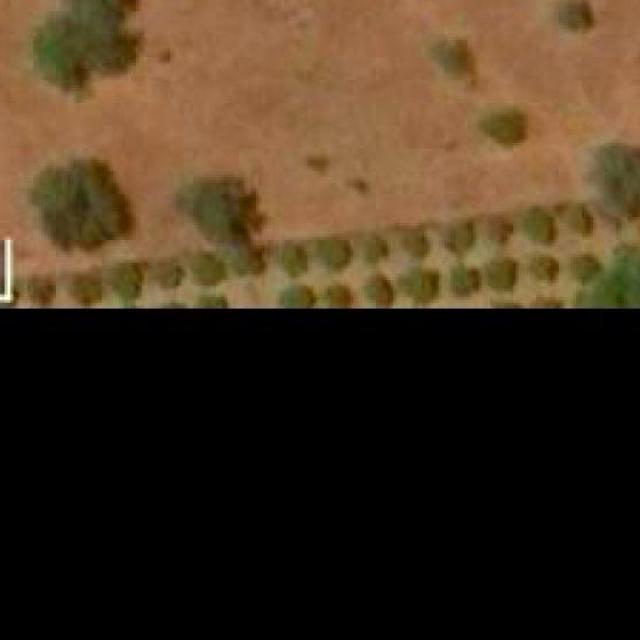Tree: (34, 0, 134, 71), (39, 166, 116, 240), (581, 145, 640, 211), (190, 183, 256, 240), (607, 246, 640, 308), (399, 268, 439, 303), (476, 114, 524, 143), (435, 40, 470, 78), (107, 263, 142, 300), (552, 0, 590, 32), (190, 253, 224, 286), (441, 220, 473, 255), (521, 206, 553, 240), (447, 265, 479, 297), (276, 242, 308, 274), (70, 274, 102, 306), (315, 240, 350, 269), (147, 261, 182, 289), (365, 274, 393, 306), (401, 225, 428, 257), (18, 280, 51, 306), (573, 255, 601, 283), (485, 261, 513, 289), (487, 217, 513, 246), (364, 234, 388, 263), (281, 288, 313, 309), (530, 257, 559, 280), (327, 286, 350, 306)
